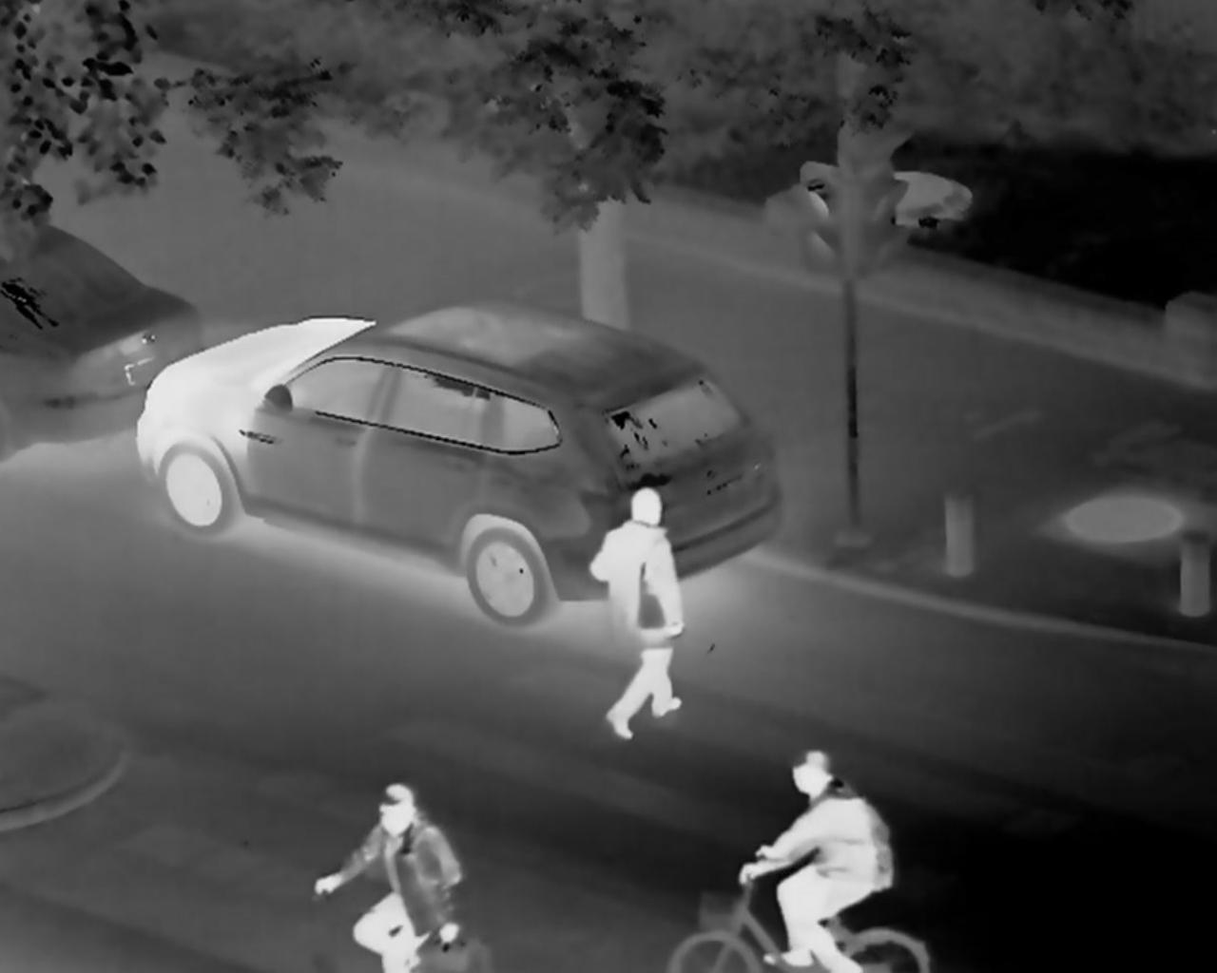person: (313, 765, 502, 973), (737, 755, 902, 973), (568, 473, 699, 723)
